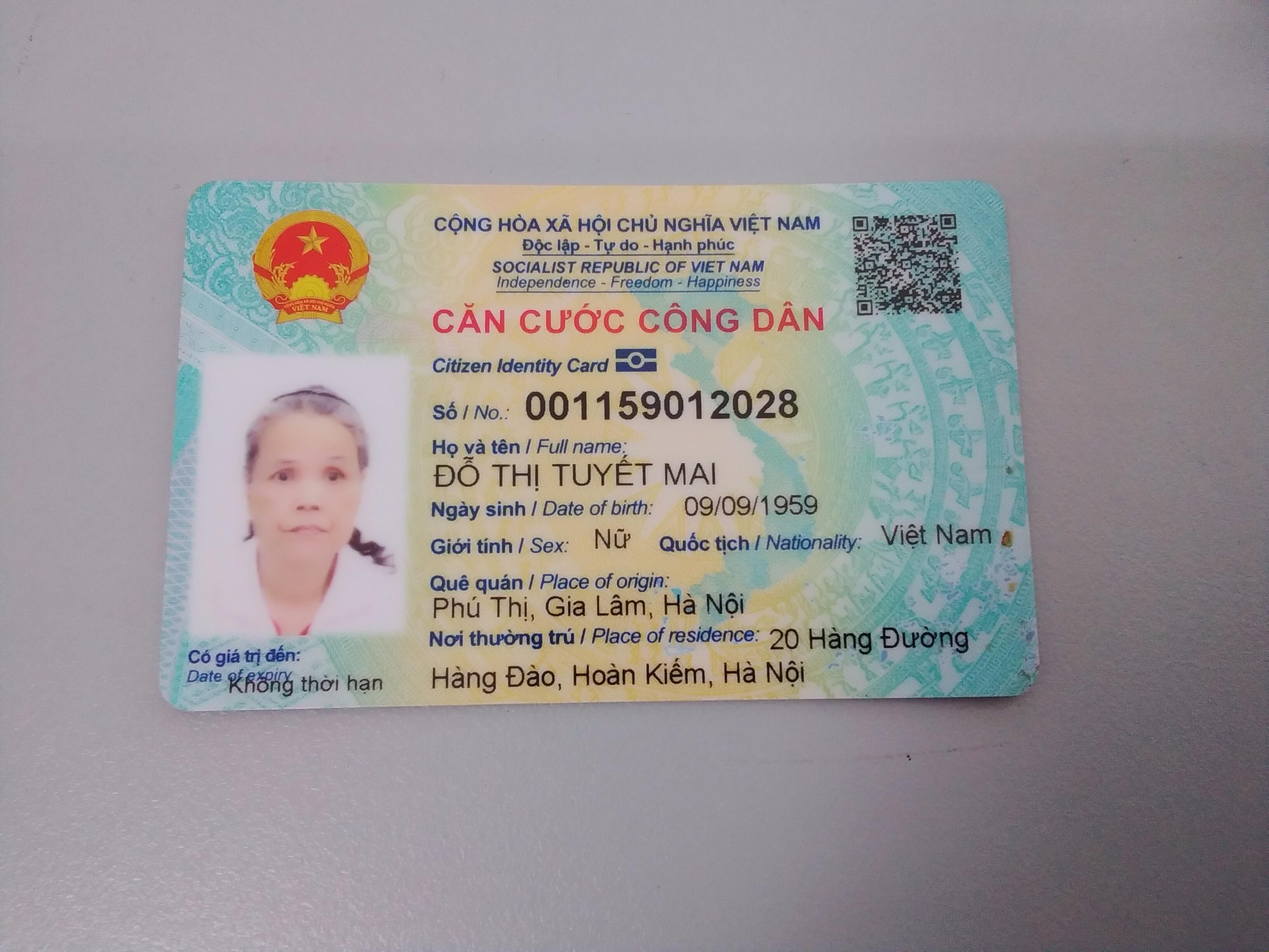ID: (513, 381, 809, 428)
birth: (678, 489, 826, 529)
name: (423, 454, 721, 493)
place: (421, 587, 771, 625)
residence: (421, 655, 827, 696), (767, 617, 981, 660)
